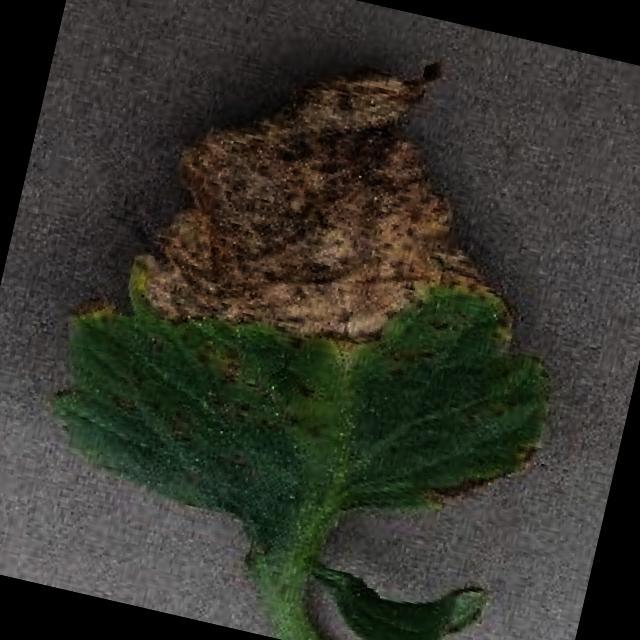Tomato bacterial spot leaf: (24, 0, 620, 594)
